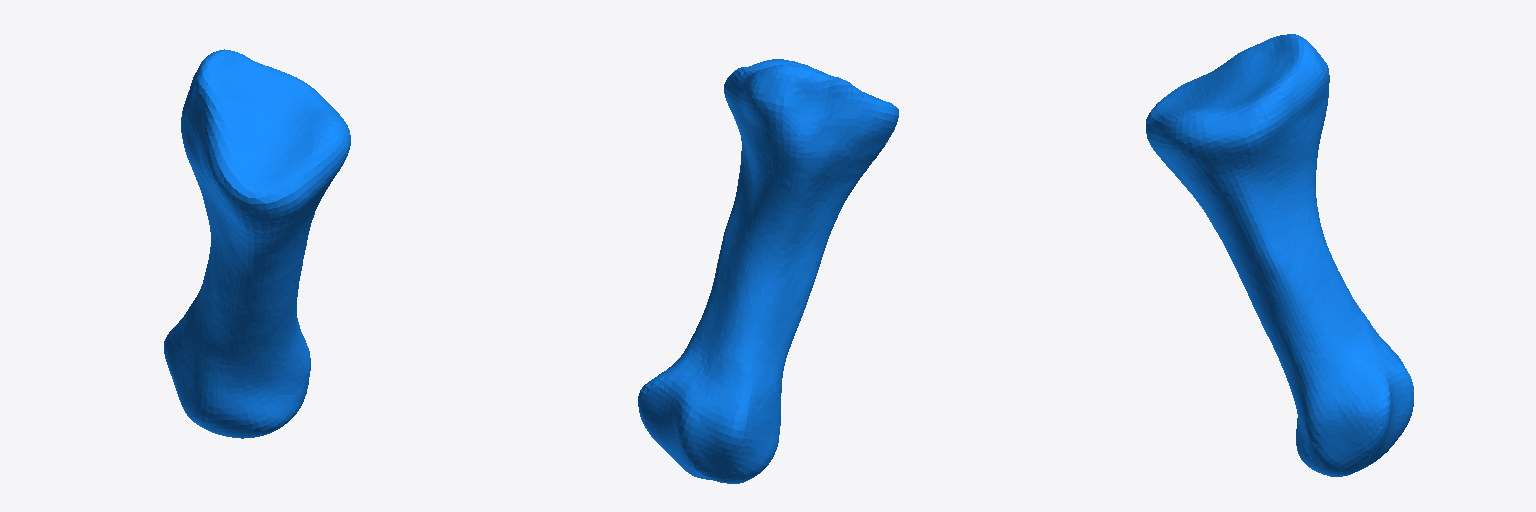
File: Metatarsal_1.obj
3 renders of one model, left to right at view 1: azimuth 30°, elevation 25°; view 2: azimuth 150°, elevation 25°; view 3: azimuth 270°, elevation 25°, orthographic.
Parts seen in each view (by area): view 1: Object_0Metatarsal_1; view 2: Object_0Metatarsal_1; view 3: Object_0Metatarsal_1.
Part boxes in pixels (x1,y1,x2,y2): Object_0Metatarsal_1: (164,49,350,438); Object_0Metatarsal_1: (638,59,898,483); Object_0Metatarsal_1: (1146,34,1413,476).
Bounding box in the file's own units: 30.61 × 73.5 × 43.93.